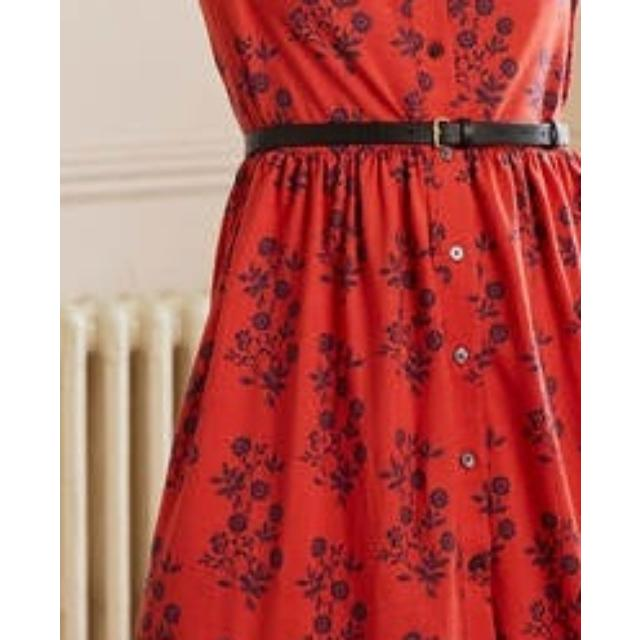cotton: (202, 0, 580, 640)
